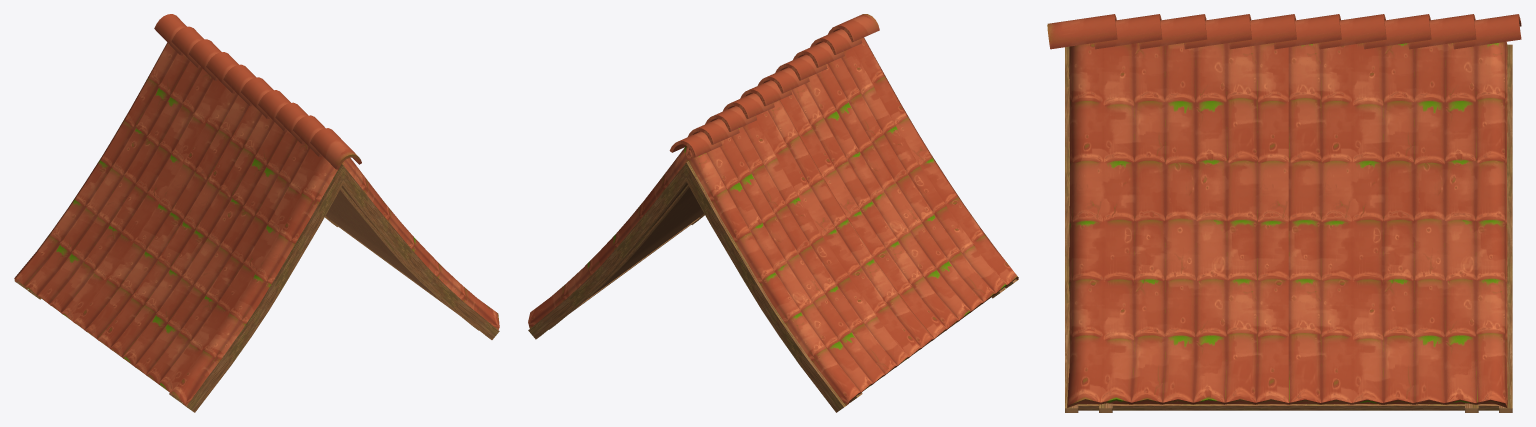
File: Roof_RoundTiles_6x6.glb
3 renders of one model, left to right at view 1: azimuth 30°, elevation 25°; view 2: azimuth 150°, elevation 25°; view 3: azimuth 270°, elevation 25°, orthographic. The views are drawn at different scales.
Visible parts, largest first — view 1: Roof_RoundTiles_6x6; view 2: Roof_RoundTiles_6x6; view 3: Roof_RoundTiles_6x6.
Part boxes in pixels (x1,y1,x2,y2): Roof_RoundTiles_6x6: [14, 14, 499, 412]; Roof_RoundTiles_6x6: [528, 14, 1018, 412]; Roof_RoundTiles_6x6: [1047, 14, 1521, 412].
Size of the model in its own units: 8.25 by 5.67 by 8.03.
2 materials, 2 textured.
